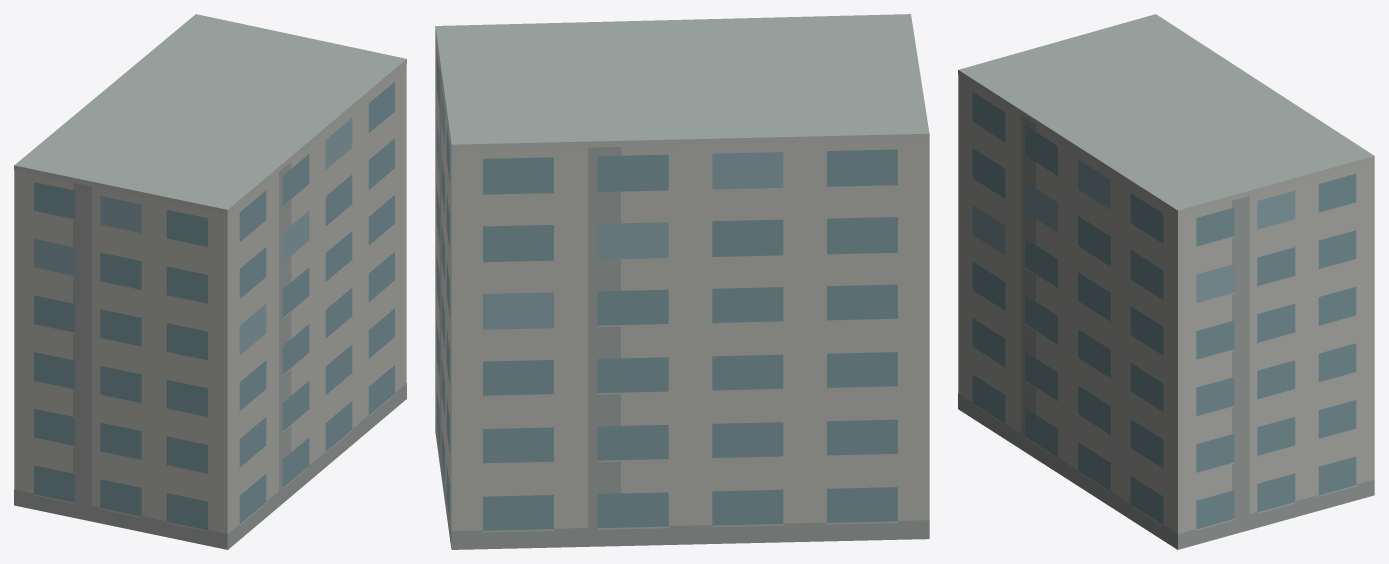
Rendered from survey-upis-33022970.glb.
The picture shows the model from 3 angles, left to right: view 1: azimuth 30°, elevation 25°; view 2: azimuth 150°, elevation 25°; view 3: azimuth 270°, elevation 25°; orthographic projection. The views are drawn at different scales.
Parts seen in each view (by area): view 1: survey-upis-33022970.tmp; view 2: survey-upis-33022970.tmp; view 3: survey-upis-33022970.tmp.
Part boxes in pixels (x1,y1,x2,y2): survey-upis-33022970.tmp: [14, 14, 406, 549]; survey-upis-33022970.tmp: [435, 14, 929, 549]; survey-upis-33022970.tmp: [958, 14, 1374, 549].
Size of the model in its own units: 20.13 by 16.2 by 18.03.
